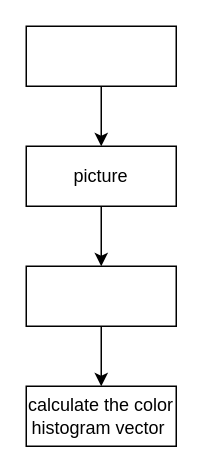
This 203x473 diagram has some shape labels left out. The box of each missing label's shape, as (x1, y1, x2, y2) in pixels:
define RGB components: (25, 265, 176, 326)
start: (25, 25, 176, 86)
